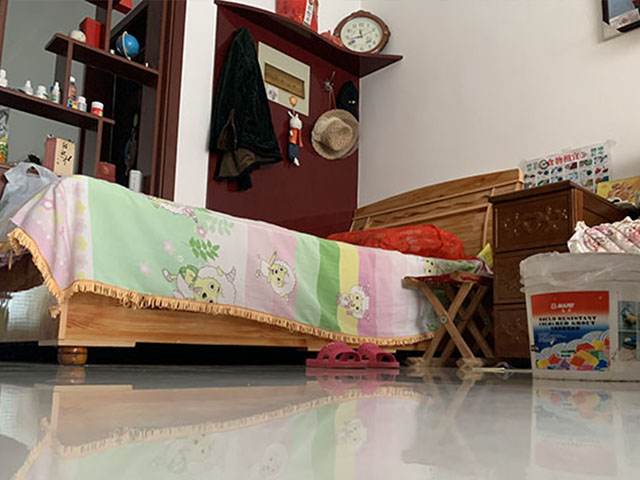bed: (1, 160, 526, 369)
cabinet: (487, 180, 632, 370)
slippers: (304, 341, 364, 370), (357, 339, 400, 370)
stool: (400, 270, 497, 371)
